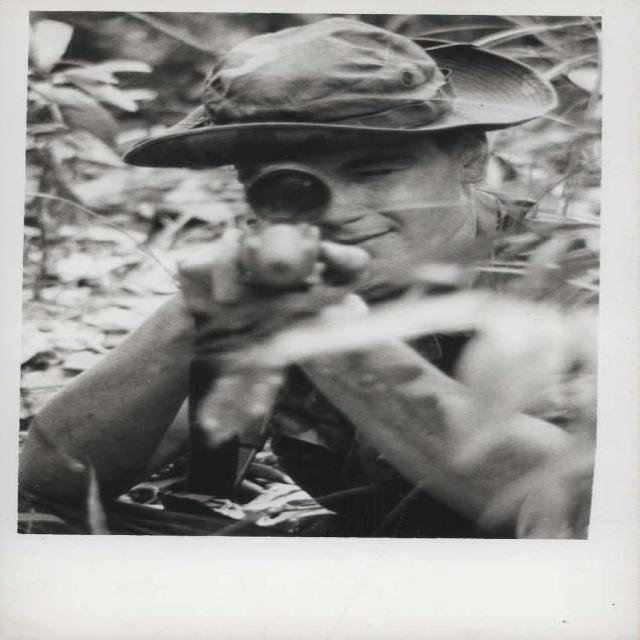weapon: (230, 158, 336, 302)
